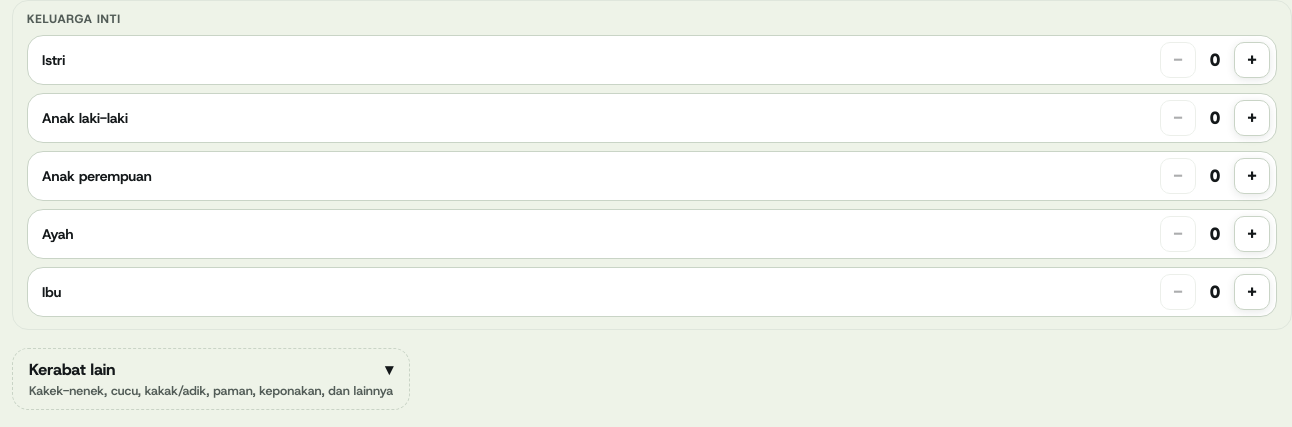
Test case: − dan + mengubah jumlah; tombol nonaktif di batas
The width and height of the screenshot is (1292, 427).
Step 1. Click the button named "Tambah Anak laki-laki" → {"x": 1252, "y": 118}, box [1234,100,1270,136]
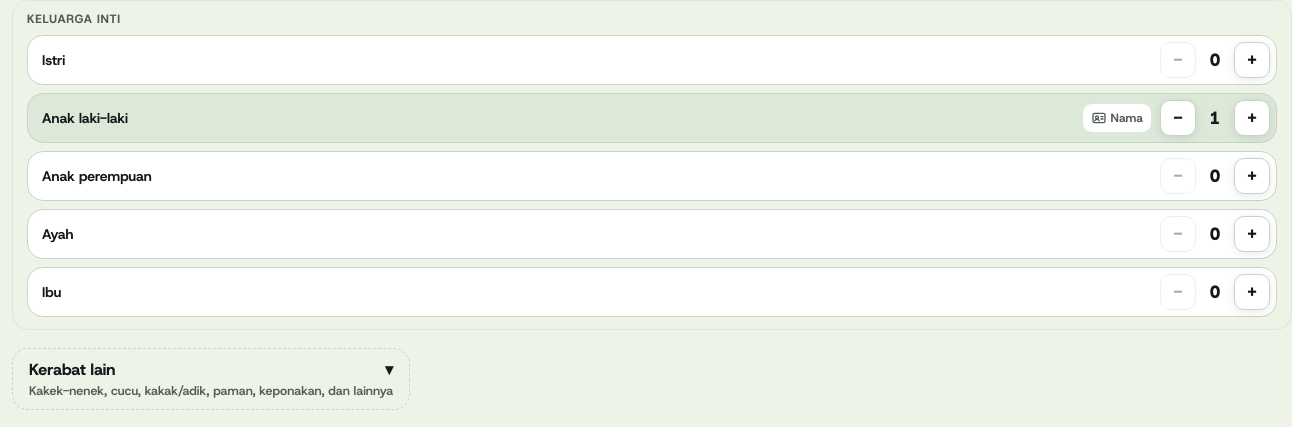
Step 2. Click the button named "Tambah Anak laki-laki" → {"x": 1252, "y": 118}, box [1234,100,1270,136]
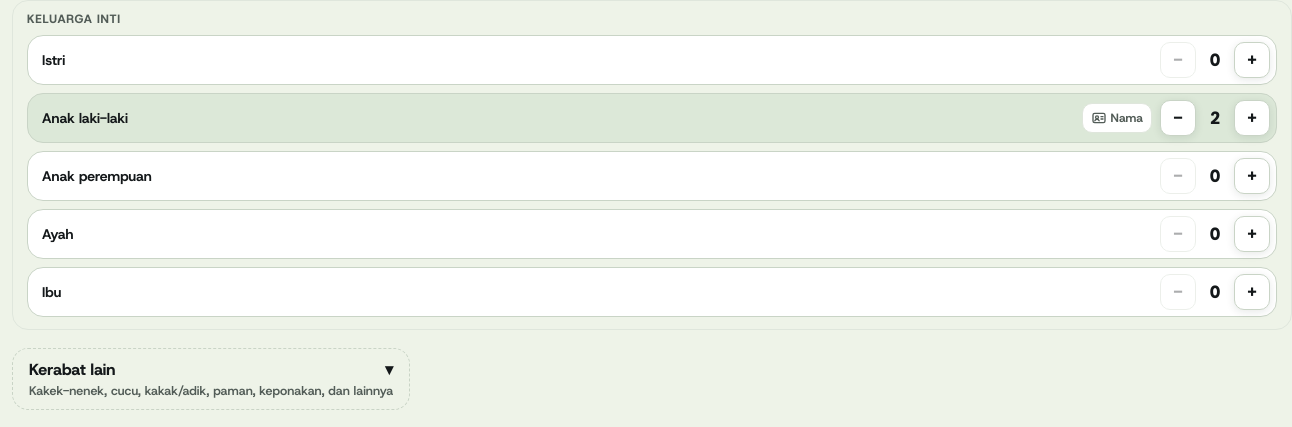
Expected: the list item "Anak laki-laki" shows "2", [1210,106,1220,130]
Step 3. Click the button named "Kurangi Anak laki-laki" → {"x": 1178, "y": 118}, box [1160,100,1196,136]
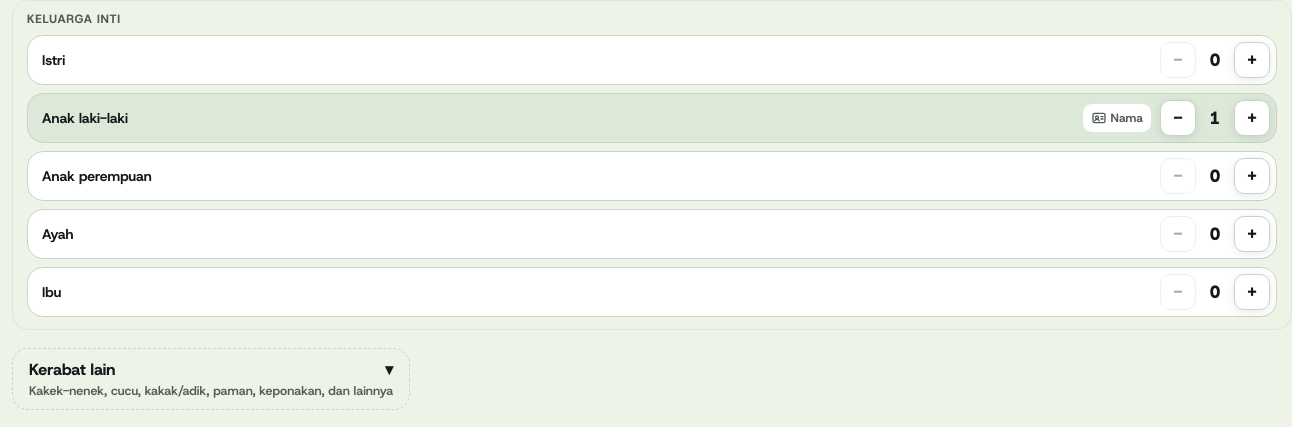
Expected: the button named "Kurangi Ayah" is disabled, [1160,216,1196,252]
Step 4. Click the button named "Tambah Ayah" → {"x": 1252, "y": 234}, box [1234,216,1270,252]
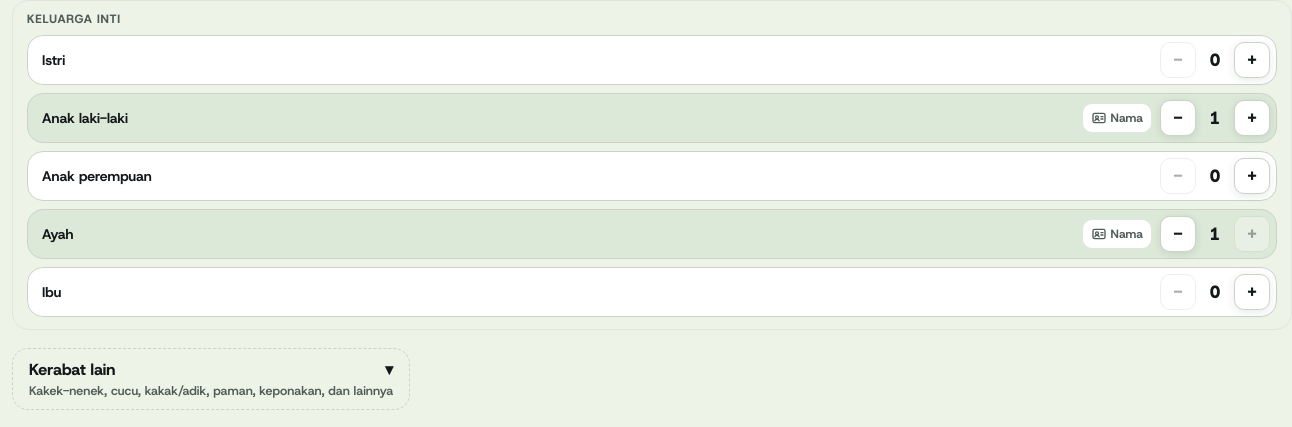
Expected: the button named "Tambah Ayah" is disabled, [1234,216,1270,252]
